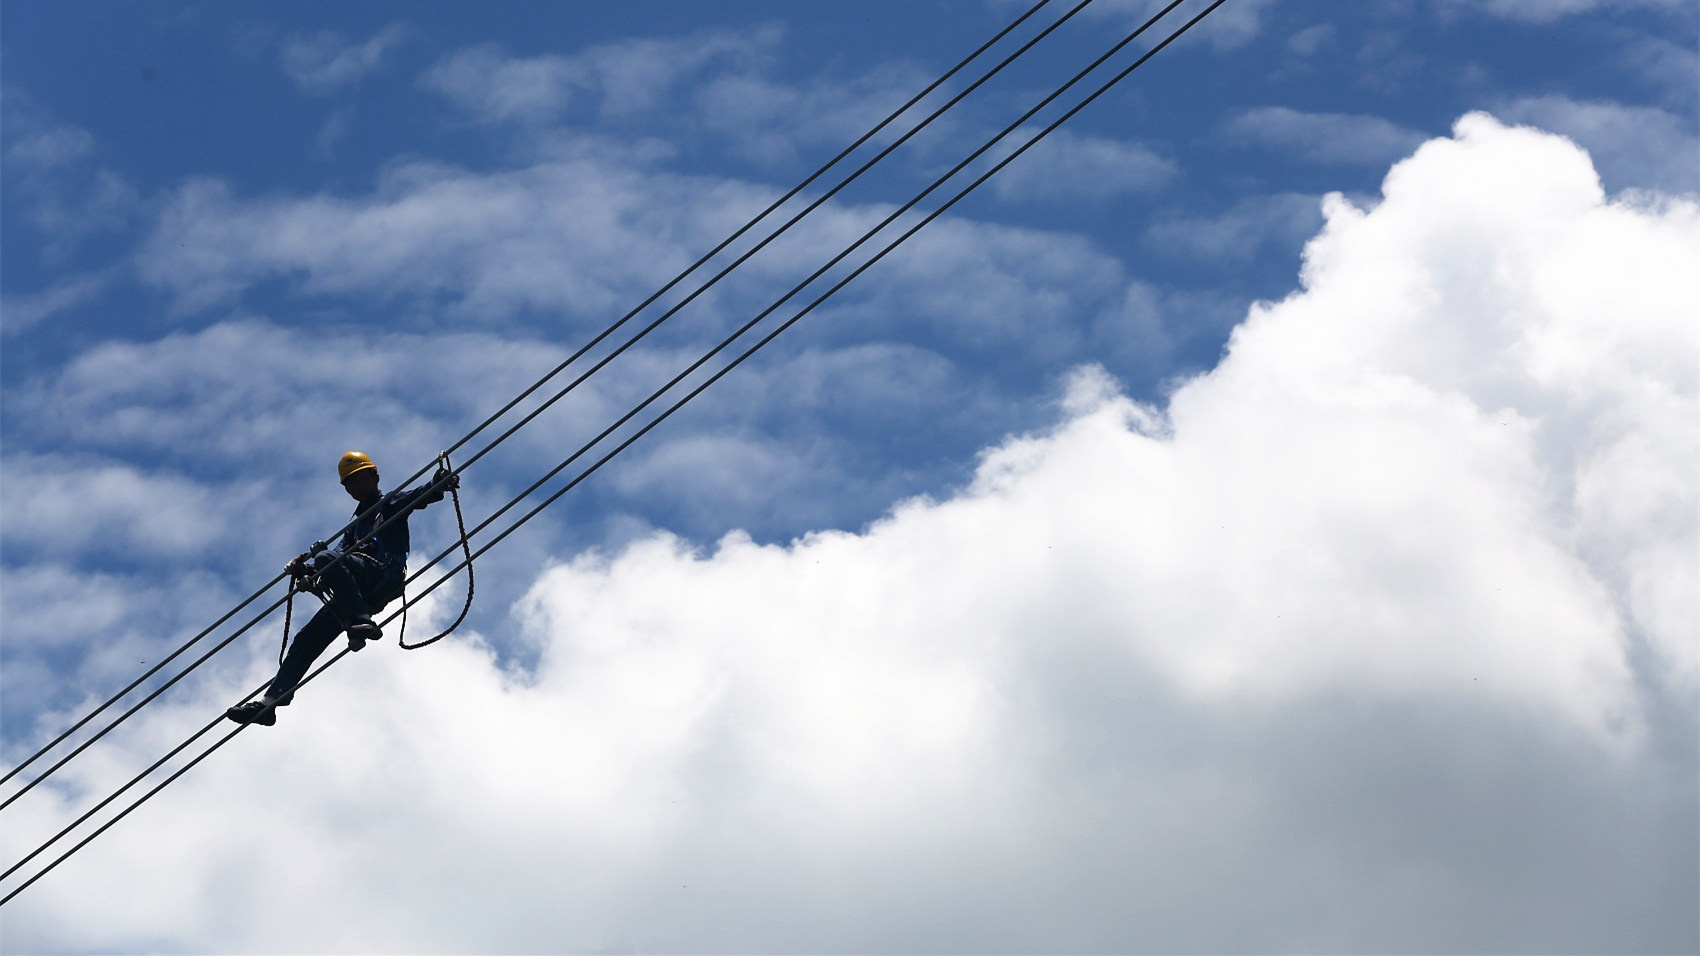yellow: (333, 445, 385, 503)
